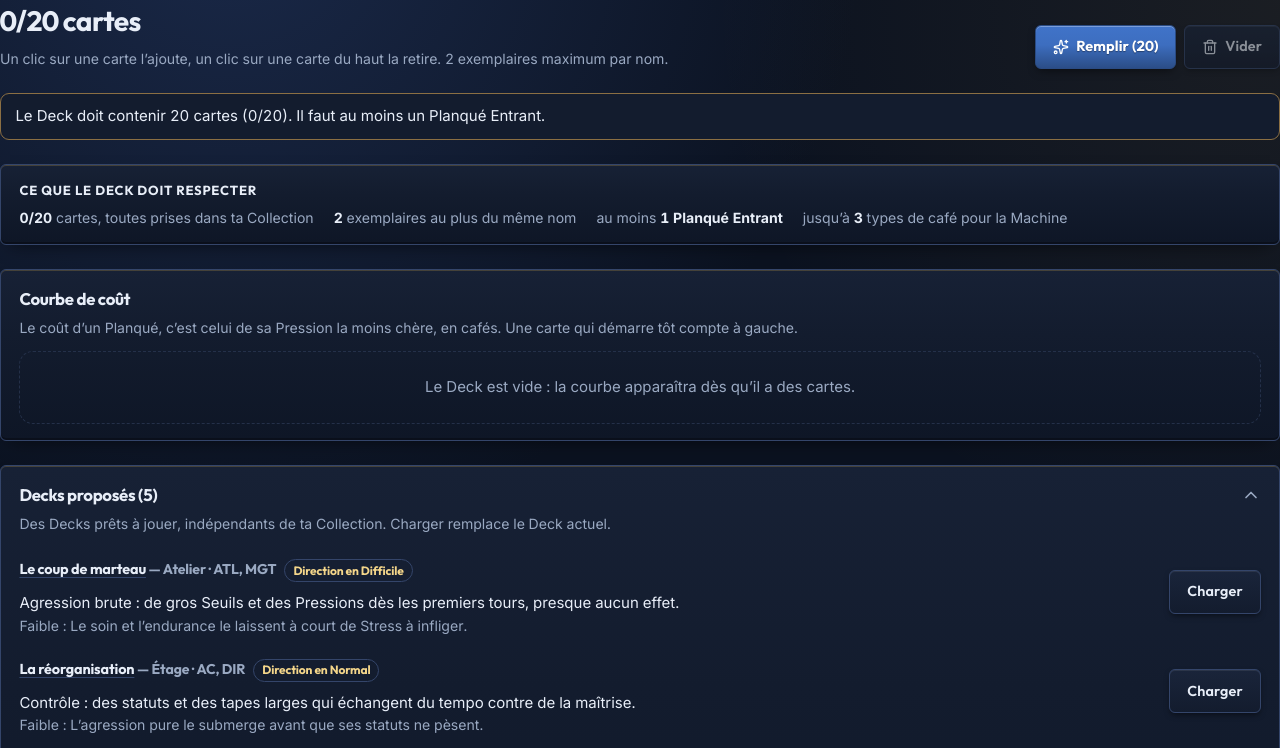
Test: Deck — présentation d’un Deck proposé (#251) › s’ouvre au clic sur le nom du Deck, sans quitter l’écran
Click the button "Le coup de marteau" at coordinates (83, 570), box [19, 548, 146, 592]
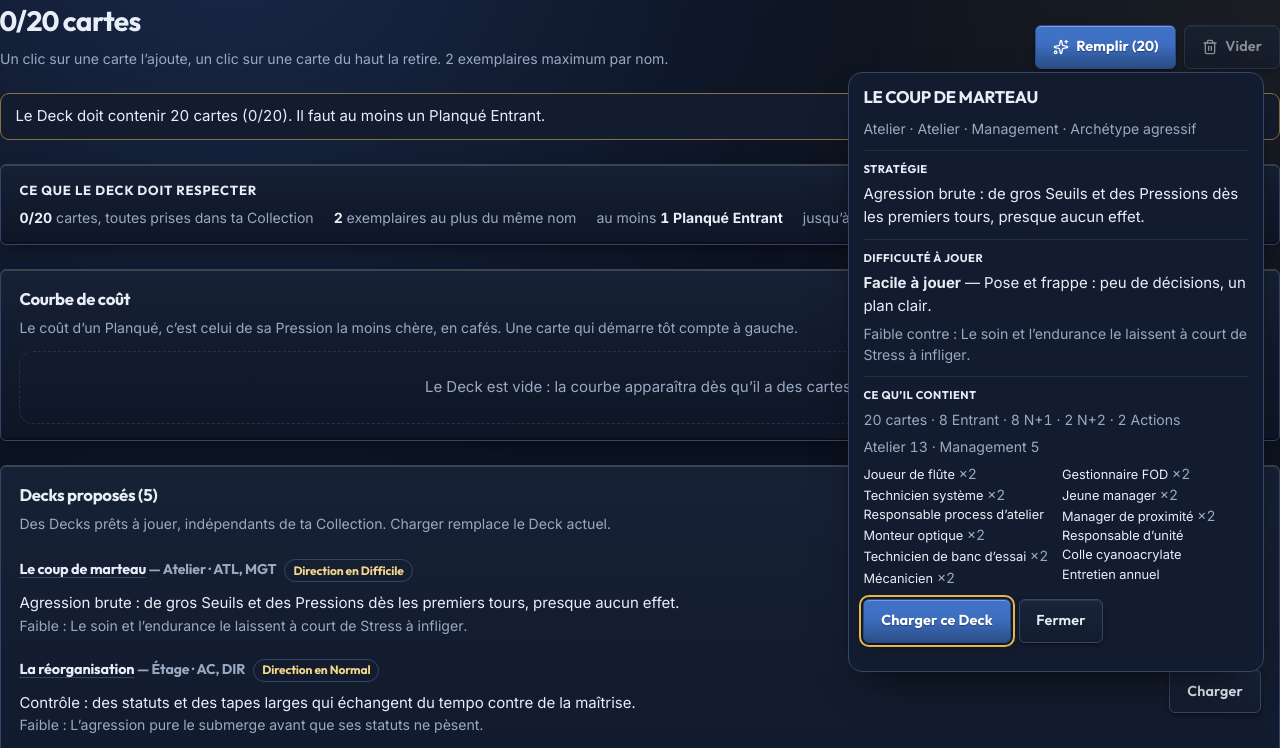
Expected: the text "Agression brute : de gros Seuils et des Pressions dès les premiers tours, presque aucun effet." below "Stratégie" is shown, [863, 184, 1238, 226]
Expected: the heading "Difficulté à jouer" is shown, [863, 251, 983, 265]
Expected: the heading "Ce qu’il contient" is shown, [863, 388, 977, 402]
